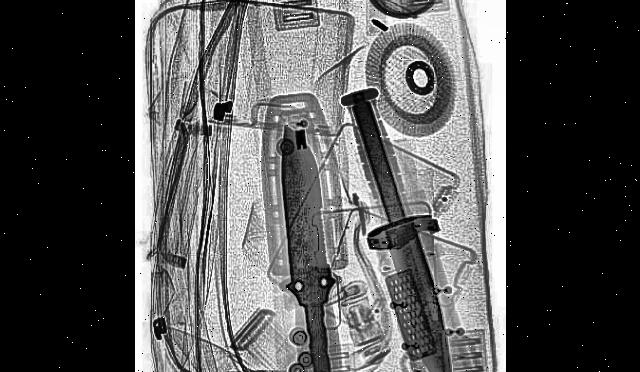Knife: (345, 84, 464, 372), (274, 115, 340, 372)
